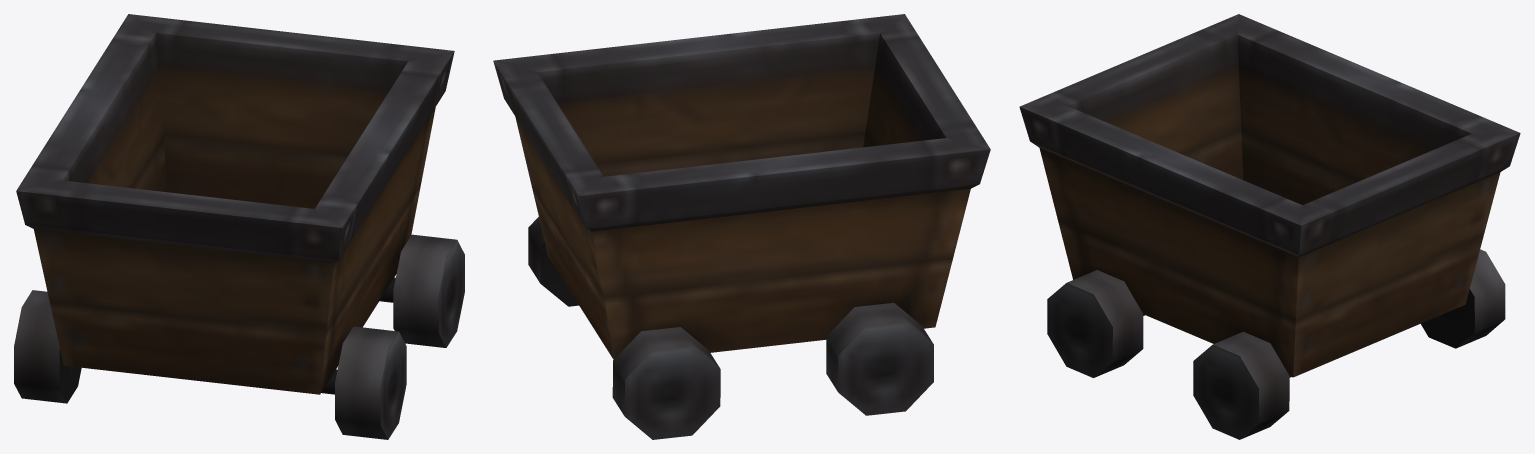
The model's file is Wagon_wagon.fbx.
The picture shows the model from 3 angles, left to right: view 1: azimuth 30°, elevation 25°; view 2: azimuth 150°, elevation 25°; view 3: azimuth 270°, elevation 25°; orthographic projection. The views are drawn at different scales.
Visible parts, largest first — view 1: Wagon_wagon; view 2: Wagon_wagon; view 3: Wagon_wagon.
Part boxes in pixels (left/top/right/bottom): Wagon_wagon: left=14, top=14, right=464, bottom=439; Wagon_wagon: left=493, top=14, right=990, bottom=439; Wagon_wagon: left=1019, top=14, right=1520, bottom=439.
Size of the model in its own units: 167 by 83.72 by 167.
Materials: 1 (1 with a texture image).
